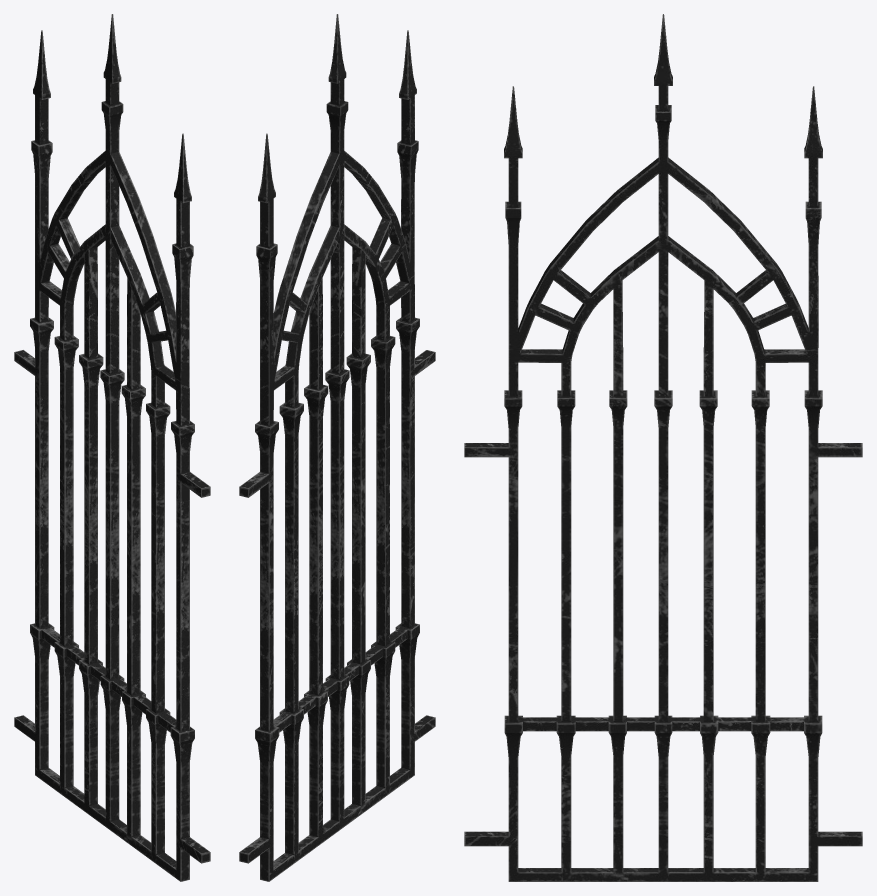
Rendered from SM_Section1.fbx.
3 views of the same model, side by side, from view 1: azimuth 30°, elevation 25°; view 2: azimuth 150°, elevation 25°; view 3: azimuth 270°, elevation 25° (orthographic). The views are drawn at different scales.
Parts seen in each view (by area): view 1: SM_Section1; view 2: SM_Section1; view 3: SM_Section1.
Boxes of the visible parts, <box> form: SM_Section1: <box>14,14,210,881</box>; SM_Section1: <box>239,14,435,881</box>; SM_Section1: <box>464,14,862,881</box>.
Size of the model in its own units: 9.4 by 193 by 463.
